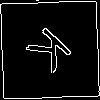K: (25, 25, 82, 81)
